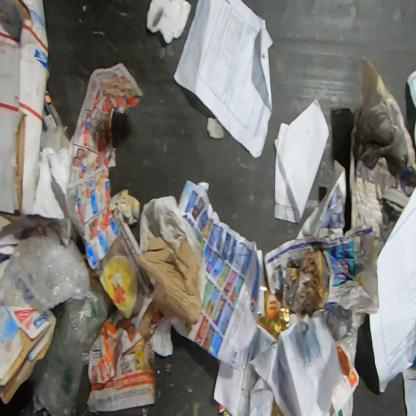cardboard: (0, 0, 50, 216), (0, 253, 56, 406), (138, 238, 202, 328)
soft_plastic: (29, 285, 110, 415), (1, 234, 91, 311), (256, 284, 290, 342), (271, 396, 285, 416), (218, 403, 234, 415)
